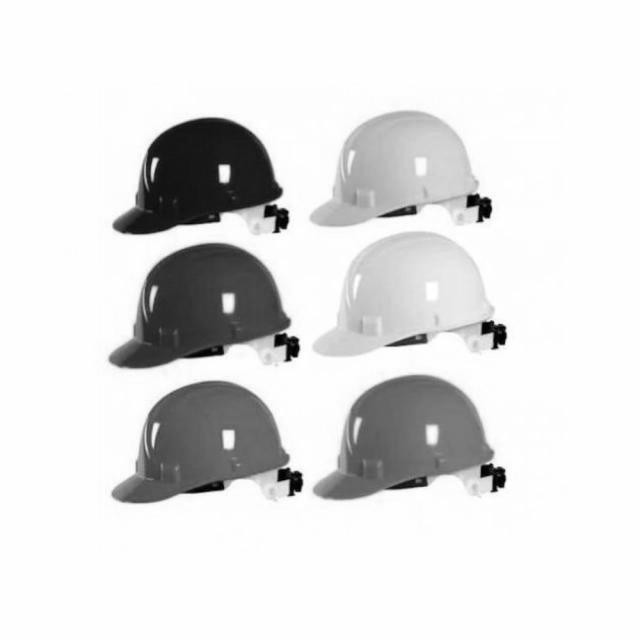construction helmet: (312, 377, 508, 504), (312, 236, 509, 361), (109, 382, 301, 508), (108, 243, 292, 372), (308, 109, 494, 231), (111, 116, 284, 239)
